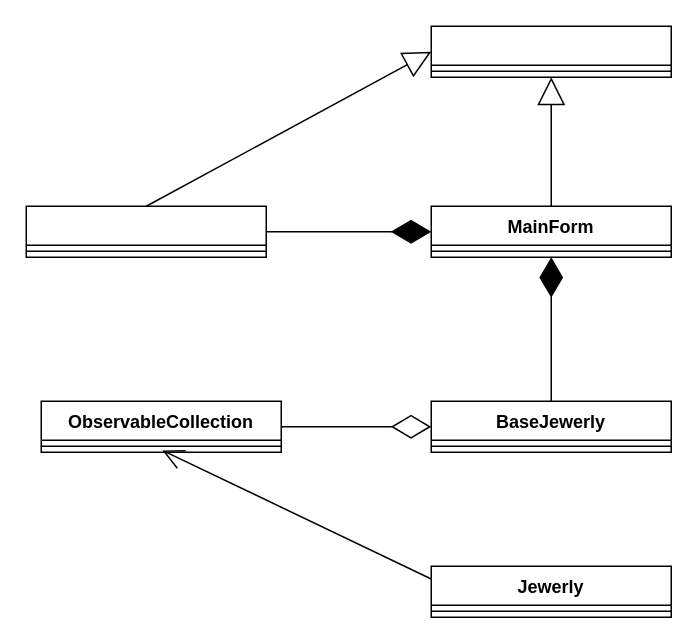
The diagram is 698 pixels wide and 644 high, and some of its shapes have lost their labels. The shapes that lost their labels are listed below. From the top down, each one's centre as x and y in pixels, then its label:
At (x=550, y=51): "Window".
At (x=145, y=231): "AddNewJewerly".
